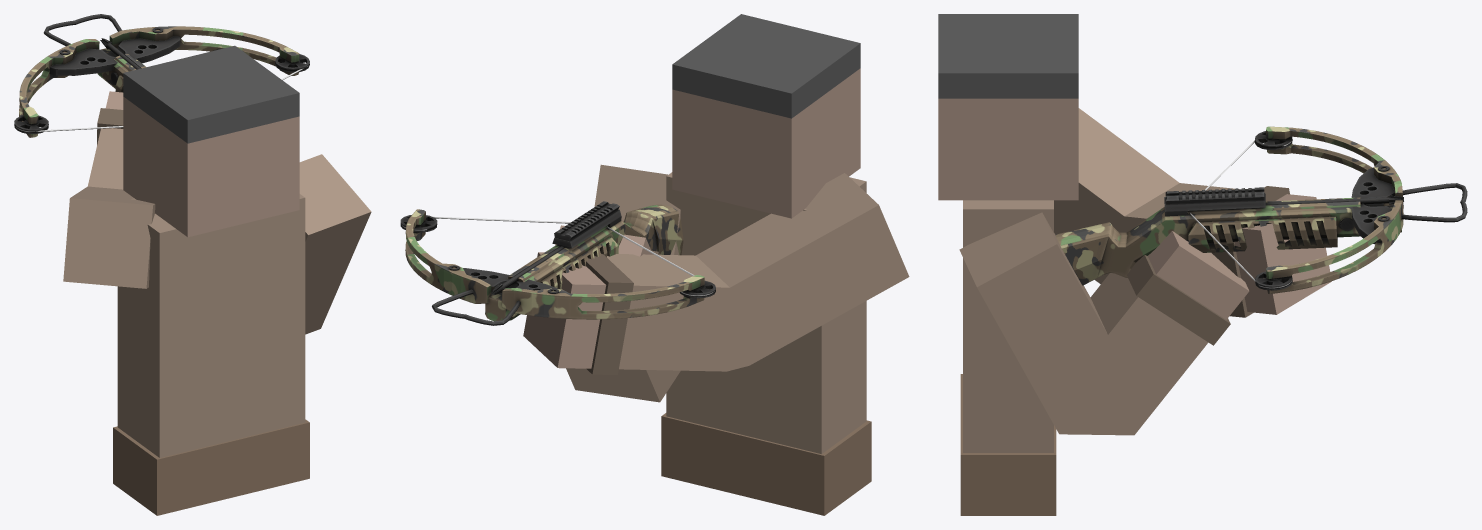
Rendered from Crossbow.gltf.
3 renders of one model, left to right at view 1: azimuth 30°, elevation 25°; view 2: azimuth 150°, elevation 25°; view 3: azimuth 270°, elevation 25°, orthographic. The views are drawn at different scales.
Bounding box in the file's own units: 6.42 × 6.8 × 7.55.
Materials: 2 (1 with a texture image).
